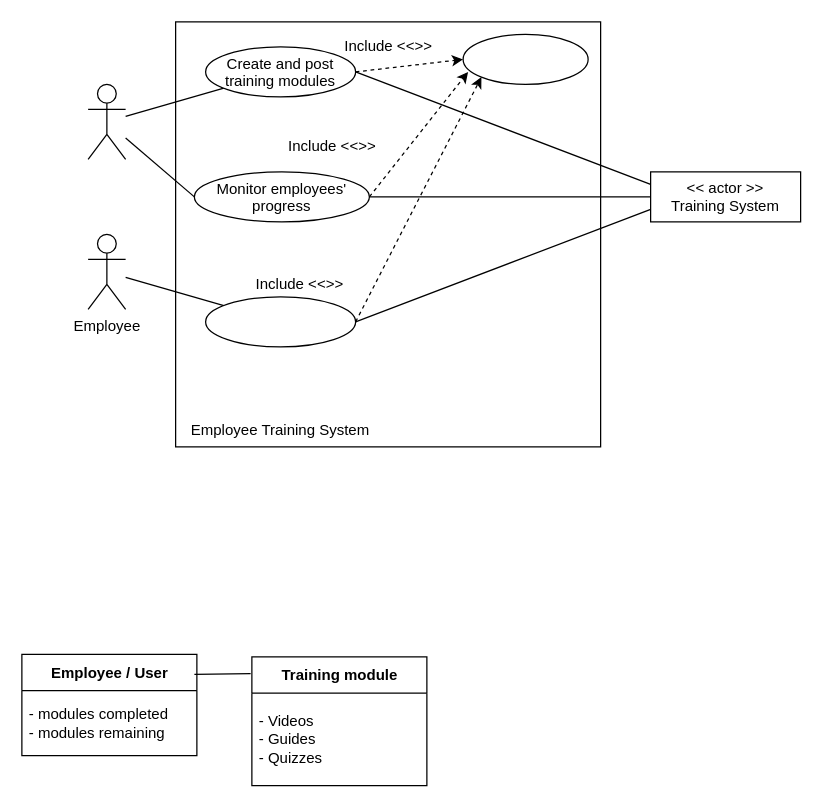
This 823x808 diagram has some shape labels left out. The shapes that lost their labels are listed below. From the top down, each one's centre as x and y in pixels, then its label:
At point 525,58: "Validate User".
At point 106,121: "Employer".
At point 280,321: "Complete training modules".
